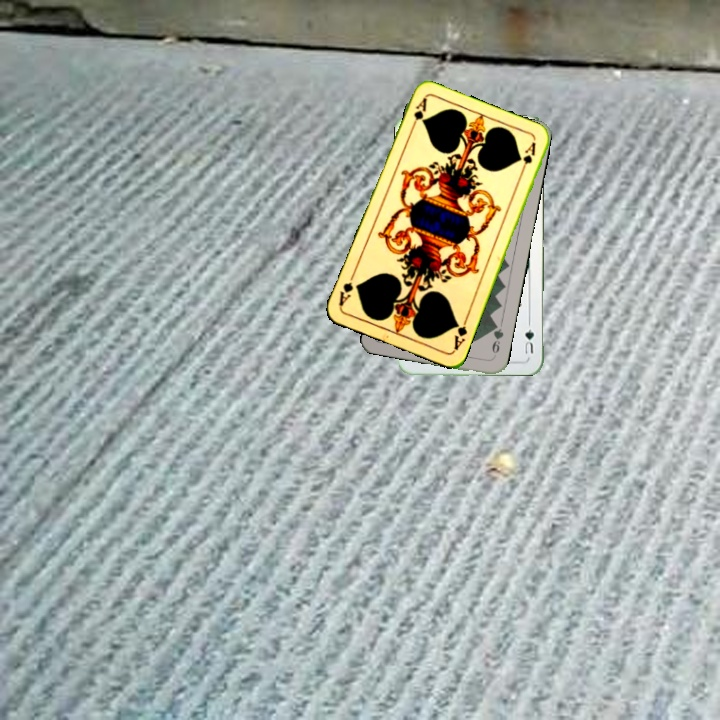G9: (488, 319, 506, 360)
GA: (407, 94, 429, 133), (450, 313, 470, 352)
GU: (521, 324, 536, 356)
